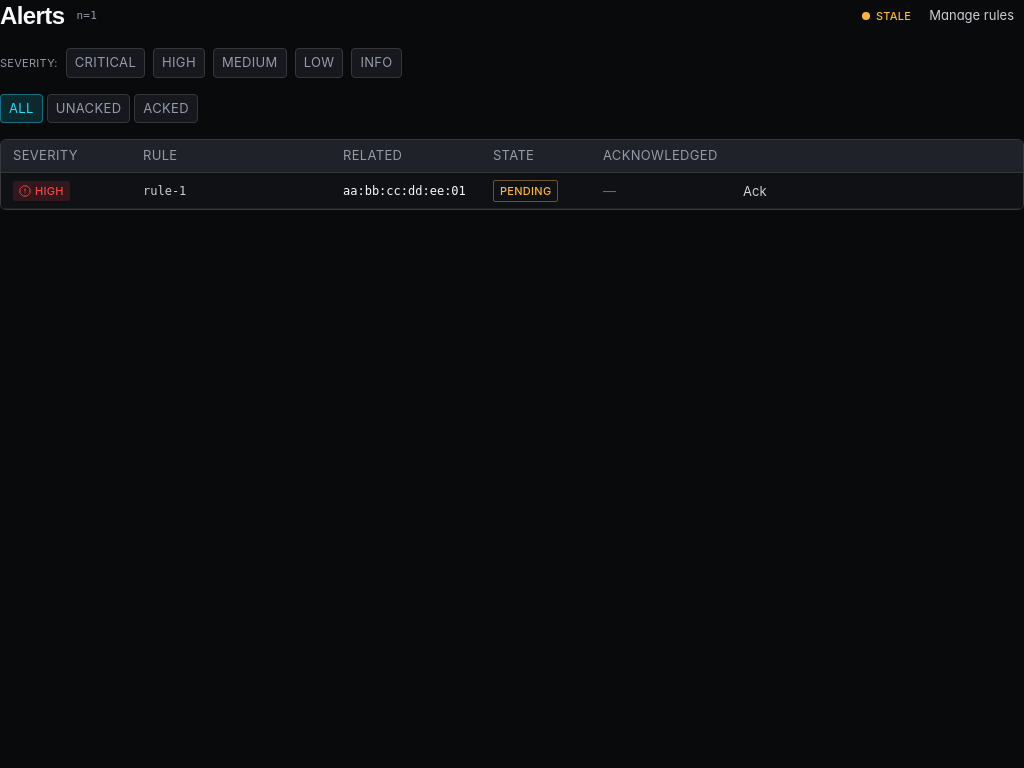
Test: AlertsView › opens the detail drawer when a row is clicked
Click the text "rule-1" at [165, 190], box [143,182,186,200]
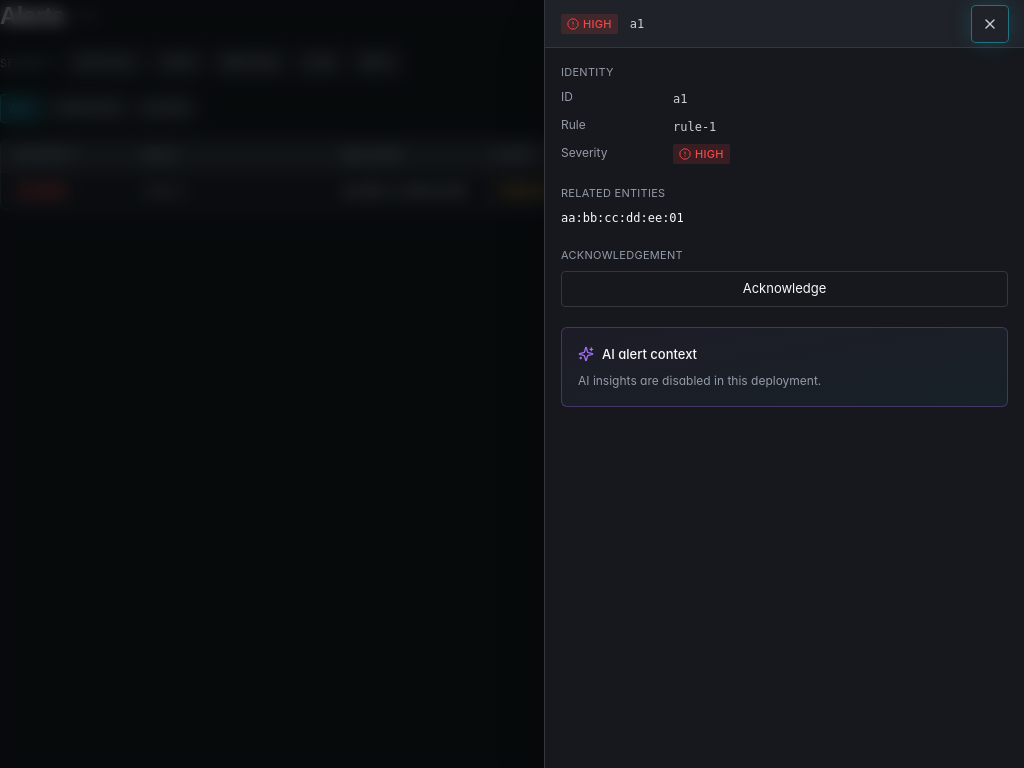
Expected: the dialog is shown
